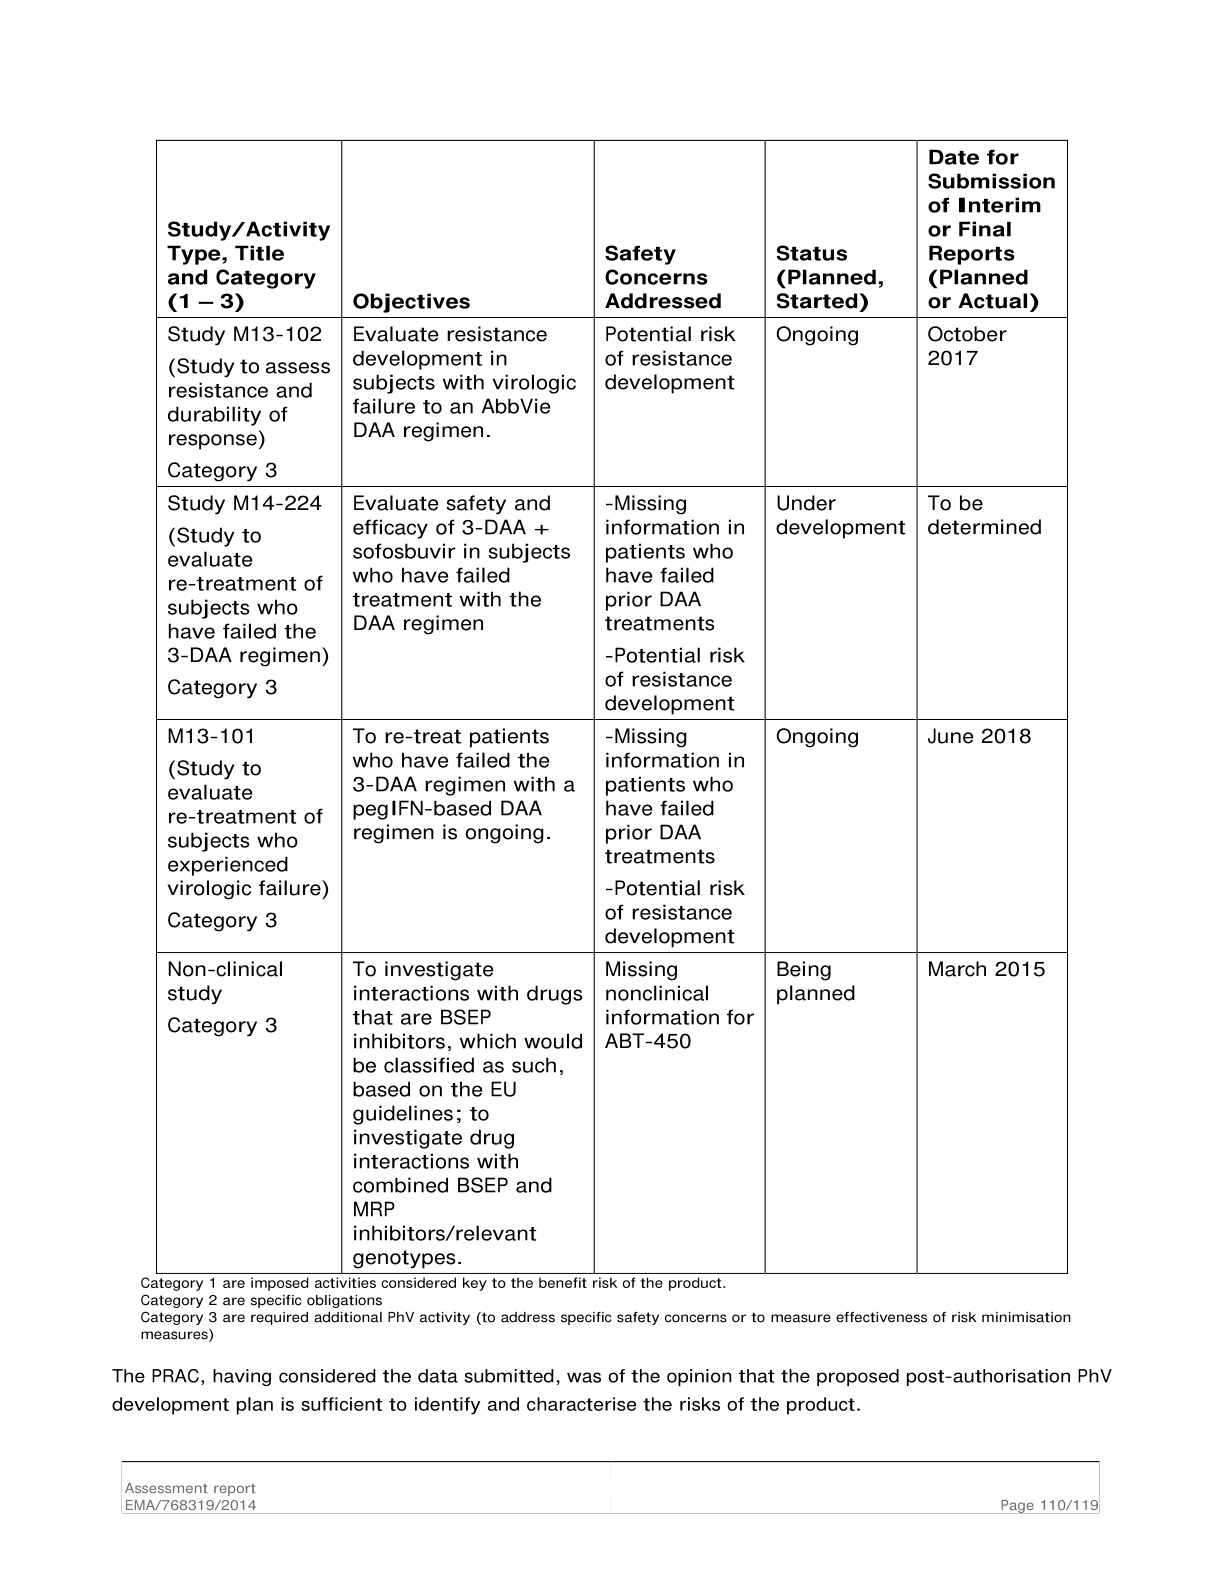full_lined: (154, 138, 1068, 1275)
